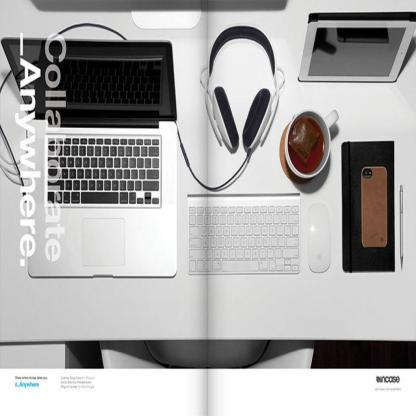board: (0, 35, 177, 280)
